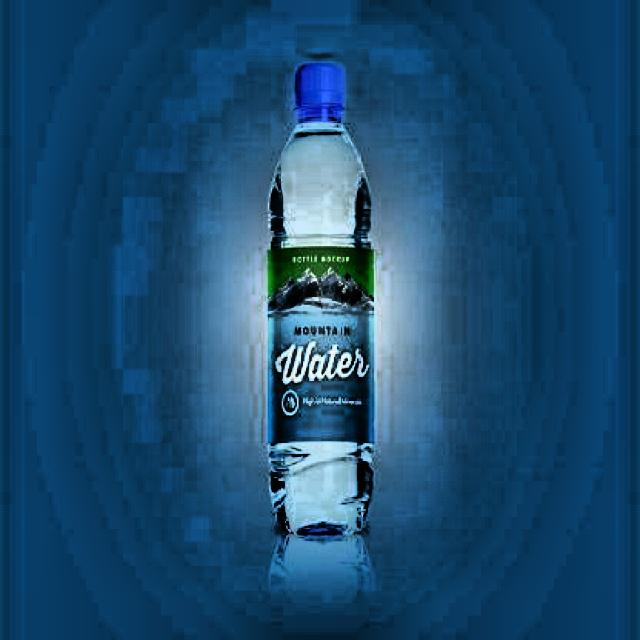Bottles: (260, 51, 381, 541)
